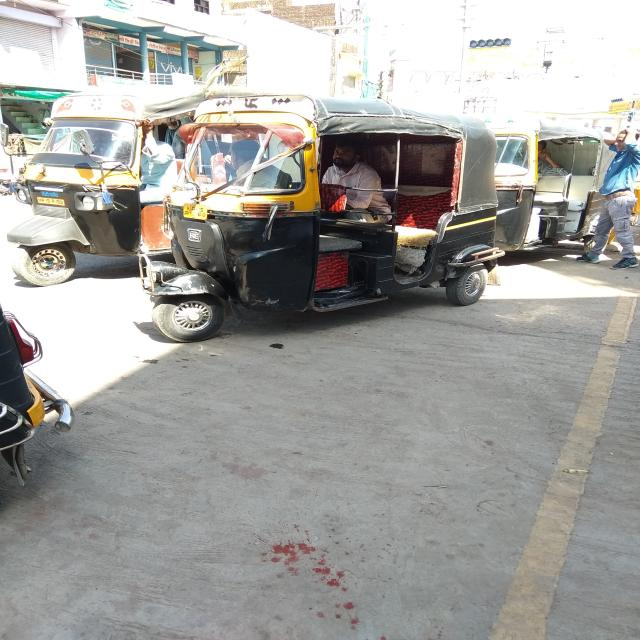Autorickshaw: (152, 89, 504, 347), (479, 123, 630, 271), (0, 274, 72, 516)
tempo: (11, 78, 224, 284)
